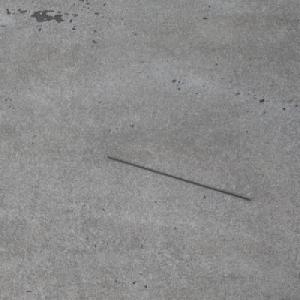LuggagePart: (105, 156, 251, 201)
